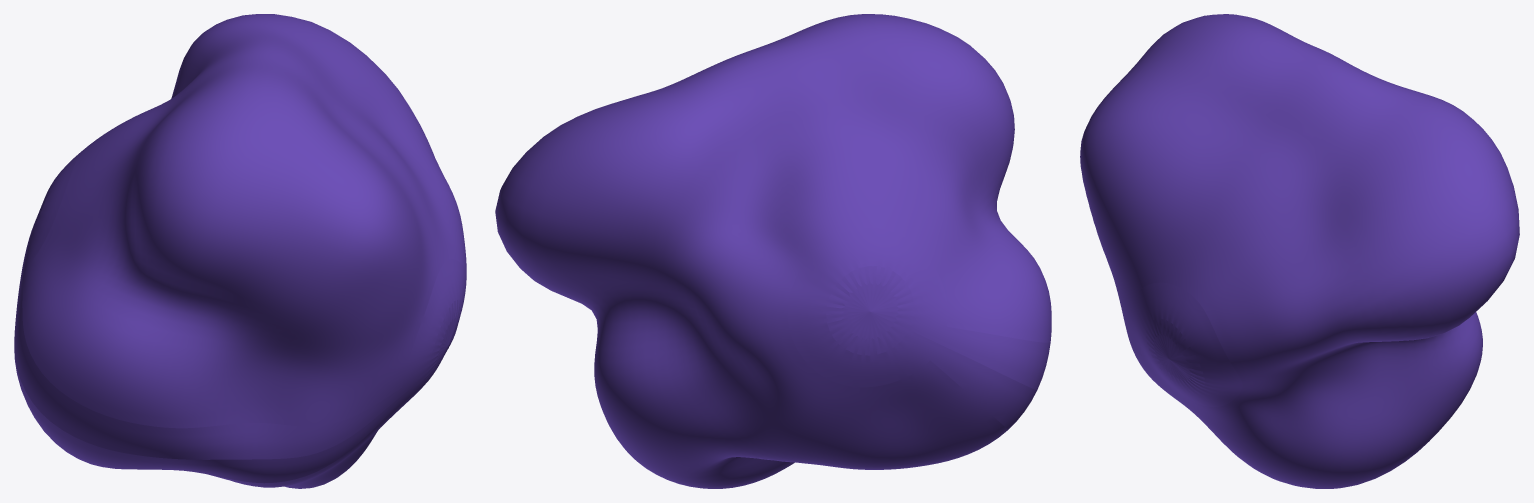
File: burbu.glb
3 renders of one model, left to right at view 1: azimuth 30°, elevation 25°; view 2: azimuth 150°, elevation 25°; view 3: azimuth 270°, elevation 25°, orthographic. The views are drawn at different scales.
Parts seen in each view (by area): view 1: Sphere; view 2: Sphere; view 3: Sphere.
Boxes of the visible parts, x1=… form: Sphere: x1=14, y1=14, x2=466, y2=488; Sphere: x1=495, y1=14, x2=1051, y2=488; Sphere: x1=1080, y1=14, x2=1519, y2=488.
Bounding box in the file's own units: 2.53 × 2.4 × 2.31.
